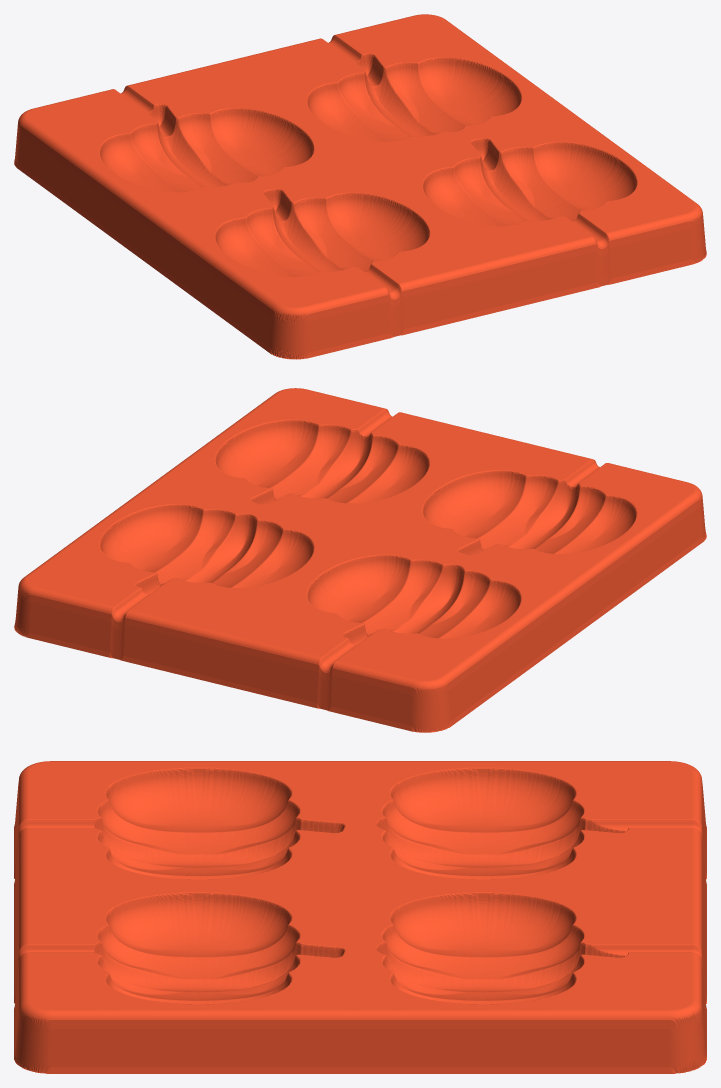
The model's file is mold.glb.
The picture shows the model from 3 angles, top to bottom: view 1: azimuth 30°, elevation 25°; view 2: azimuth 150°, elevation 25°; view 3: azimuth 270°, elevation 25°; orthographic projection. The views are drawn at different scales.
Visible parts, largest first — view 1: geometry_0; view 2: geometry_0; view 3: geometry_0.
Boxes of the visible parts, x1,y1,x2,y2 form: geometry_0: [14, 14, 706, 359]; geometry_0: [14, 388, 706, 732]; geometry_0: [14, 761, 706, 1073].
Size of the model in its own units: 0.1497 by 0.0155 by 0.1684.
